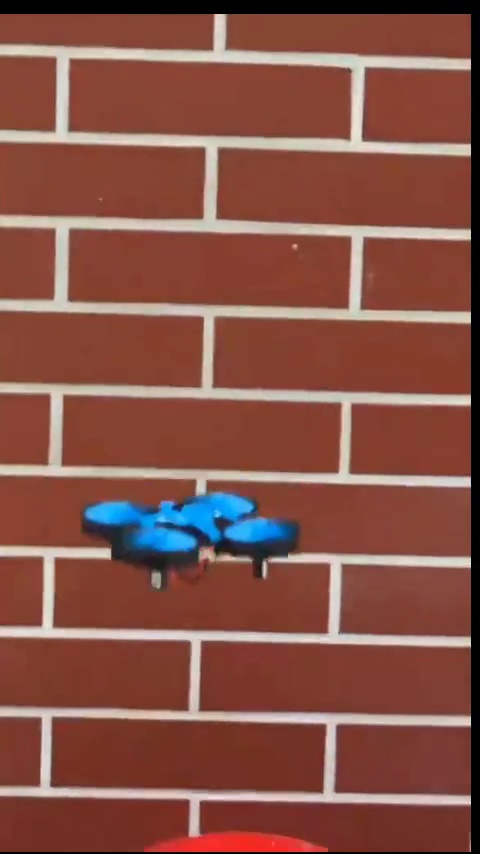drone: (86, 482, 302, 591)
